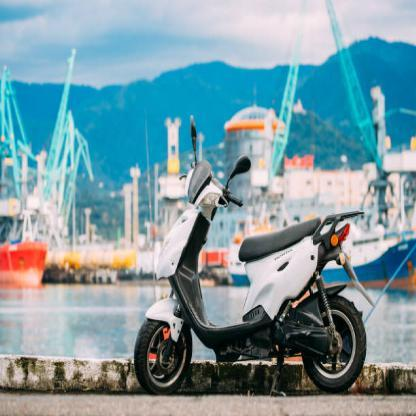Motorcycle: (131, 114, 373, 399)
